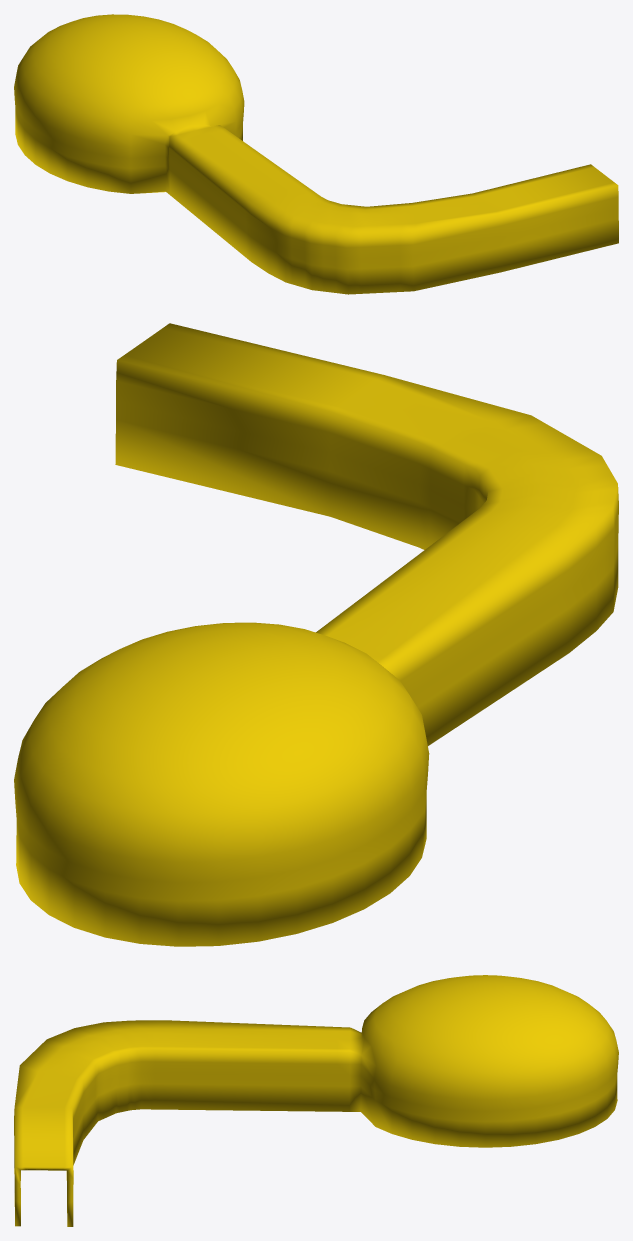
File: kilpikonnanluolaoikea2.fbx
3 views of the same model, one above another, from view 1: azimuth 30°, elevation 25°; view 2: azimuth 150°, elevation 25°; view 3: azimuth 270°, elevation 25° (orthographic). The views are drawn at different scales.
Visible parts, largest first — view 1: putki; view 2: putki; view 3: putki.
Part boxes in pixels (box(x1,y1,x2,y2)): putki: box(14, 14, 618, 294); putki: box(14, 323, 618, 946); putki: box(14, 975, 618, 1226).
Bounding box in the file's own units: 40.58 × 11.77 × 58.55.
